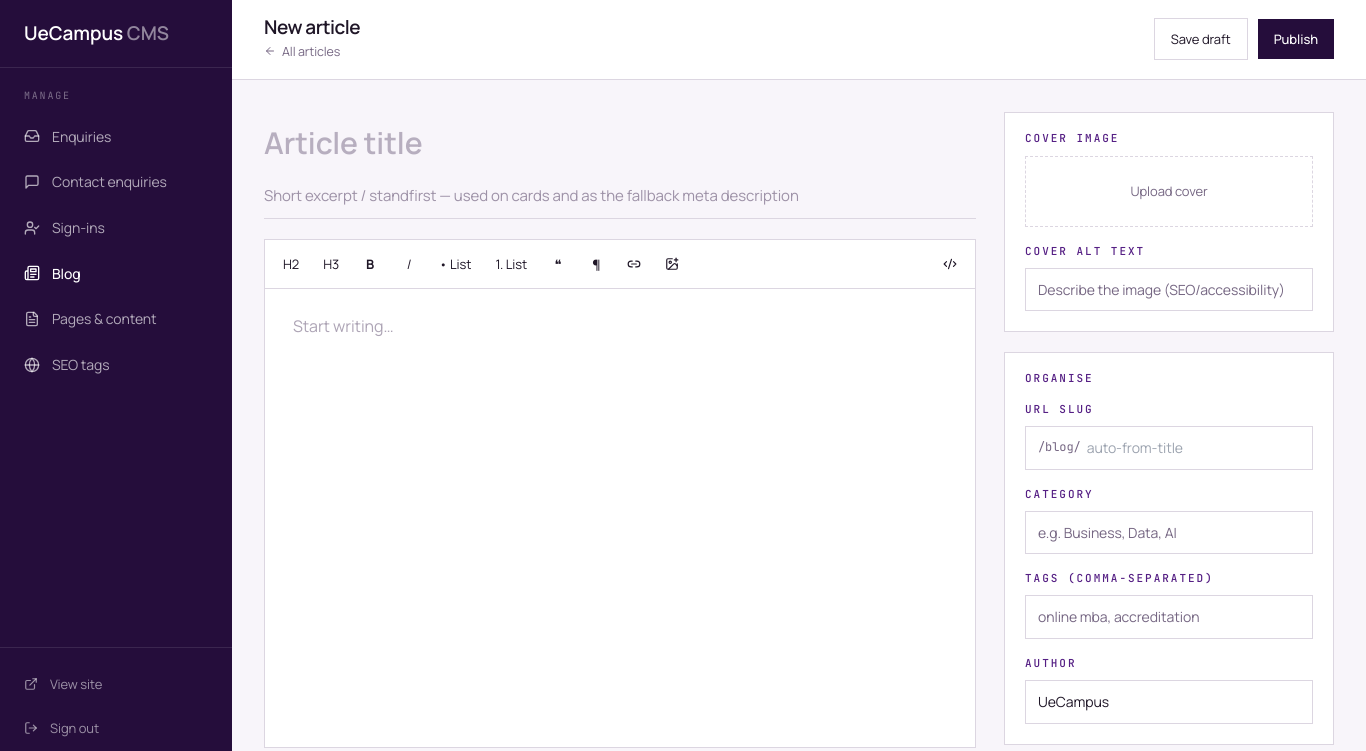
Test: AdminBlogEditor › refuses to save an untitled post
expect the field with placeholder "Article title" is shown: met, box [264,112,976,174]
Step 1. Click the button "Publish" → click(1296, 39), box [1258,19,1334,59]
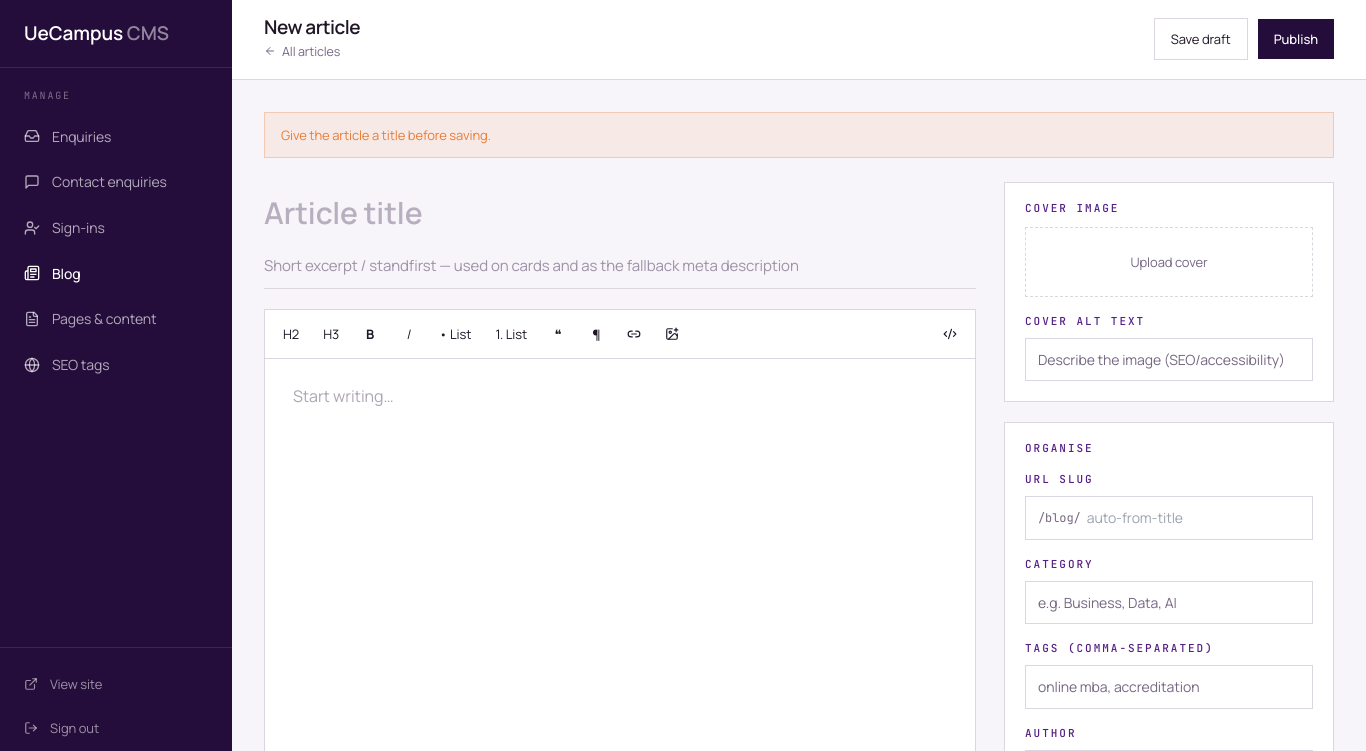
expect the text "Give the article a title before saving." is shown: met, box [264,112,1334,158]
